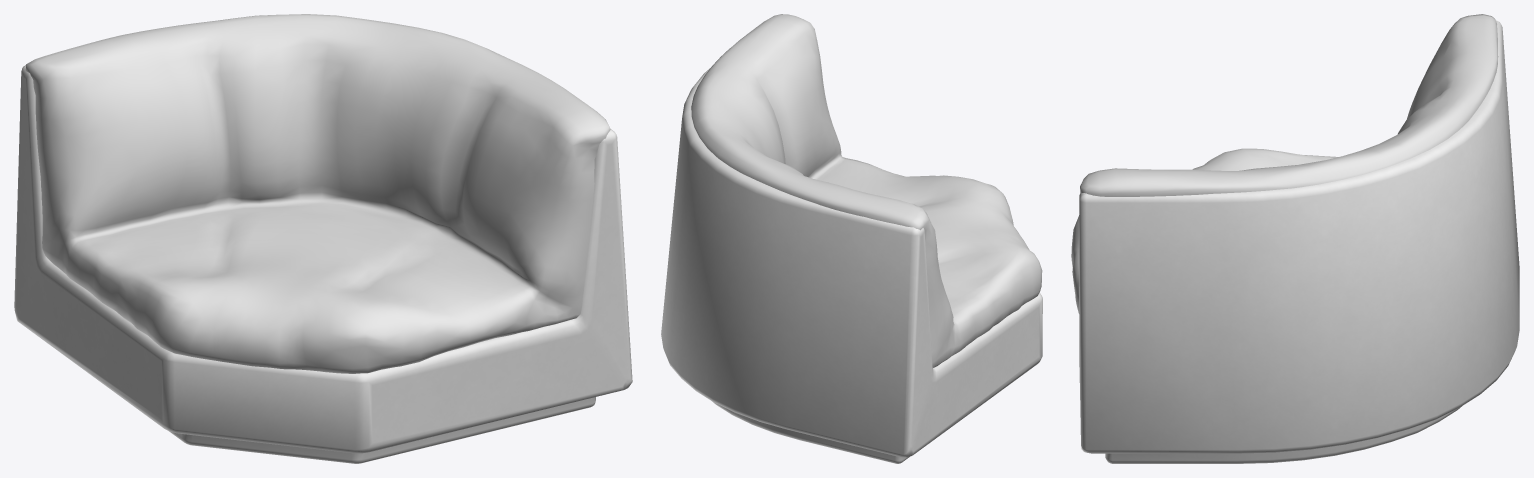
File: Sofa05_2.FBX
3 views of the same model, side by side, from view 1: azimuth 30°, elevation 25°; view 2: azimuth 150°, elevation 25°; view 3: azimuth 270°, elevation 25° (orthographic). The views are drawn at different scales.
Visible parts, largest first — view 1: Sofa05_2; view 2: Sofa05_2; view 3: Sofa05_2.
Boxes of the visible parts, x1=… form: Sofa05_2: x1=14, y1=14, x2=632, y2=463; Sofa05_2: x1=661, y1=14, x2=1042, y2=463; Sofa05_2: x1=1071, y1=14, x2=1519, y2=463.
Size of what is drawn, in the model's own units: 1.6 by 1.15 by 1.62.
